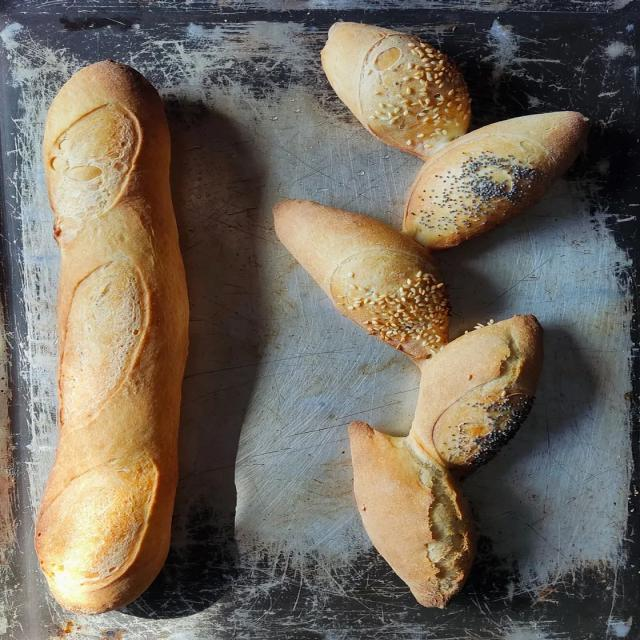Baguette: (32, 61, 190, 614)
